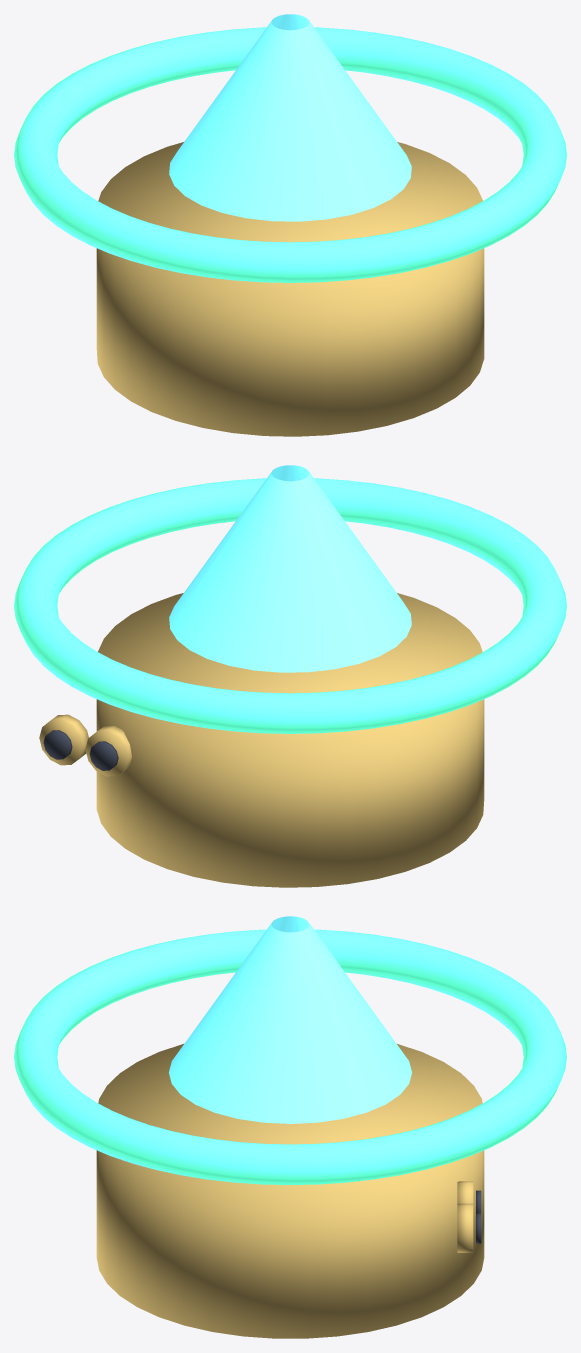
The model's file is L86_79_ServicingMissionCertificationBeacon_Fitted.fbx.
3 renders of one model, top to bottom at view 1: azimuth 30°, elevation 25°; view 2: azimuth 150°, elevation 25°; view 3: azimuth 270°, elevation 25°, orthographic.
Parts seen in each view (by area): view 1: L86_ServicingMissionCertificationBeacon_ANIM_FINAL_SERVICING (×3); view 2: L86_ServicingMissionCertificationBeacon_ANIM_FINAL_SERVICING (×3), L86_ServicingMissionCertificationBeacon_Static__tintF2B038, L86_ServicingMissionCertificationBeacon_Static__tint0F141F; view 3: L86_ServicingMissionCertificationBeacon_ANIM_FINAL_SERVICING (×3), L86_ServicingMissionCertificationBeacon_Static__tintF2B038.
Boxes of the visible parts, <box> form: L86_ServicingMissionCertificationBeacon_ANIM_FINAL_SERVICING (×3): <box>14,14,566,436</box>; L86_ServicingMissionCertificationBeacon_ANIM_FINAL_SERVICING (×3): <box>14,465,566,887</box>; L86_ServicingMissionCertificationBeacon_Static__tintF2B038: <box>39,714,131,776</box>; L86_ServicingMissionCertificationBeacon_Static__tint0F141F: <box>43,730,118,770</box>; L86_ServicingMissionCertificationBeacon_ANIM_FINAL_SERVICING (×3): <box>14,916,566,1338</box>; L86_ServicingMissionCertificationBeacon_Static__tintF2B038: <box>457,1181,473,1252</box>.
Bounding box in the file's own units: 13.96 × 9.26 × 13.96.
